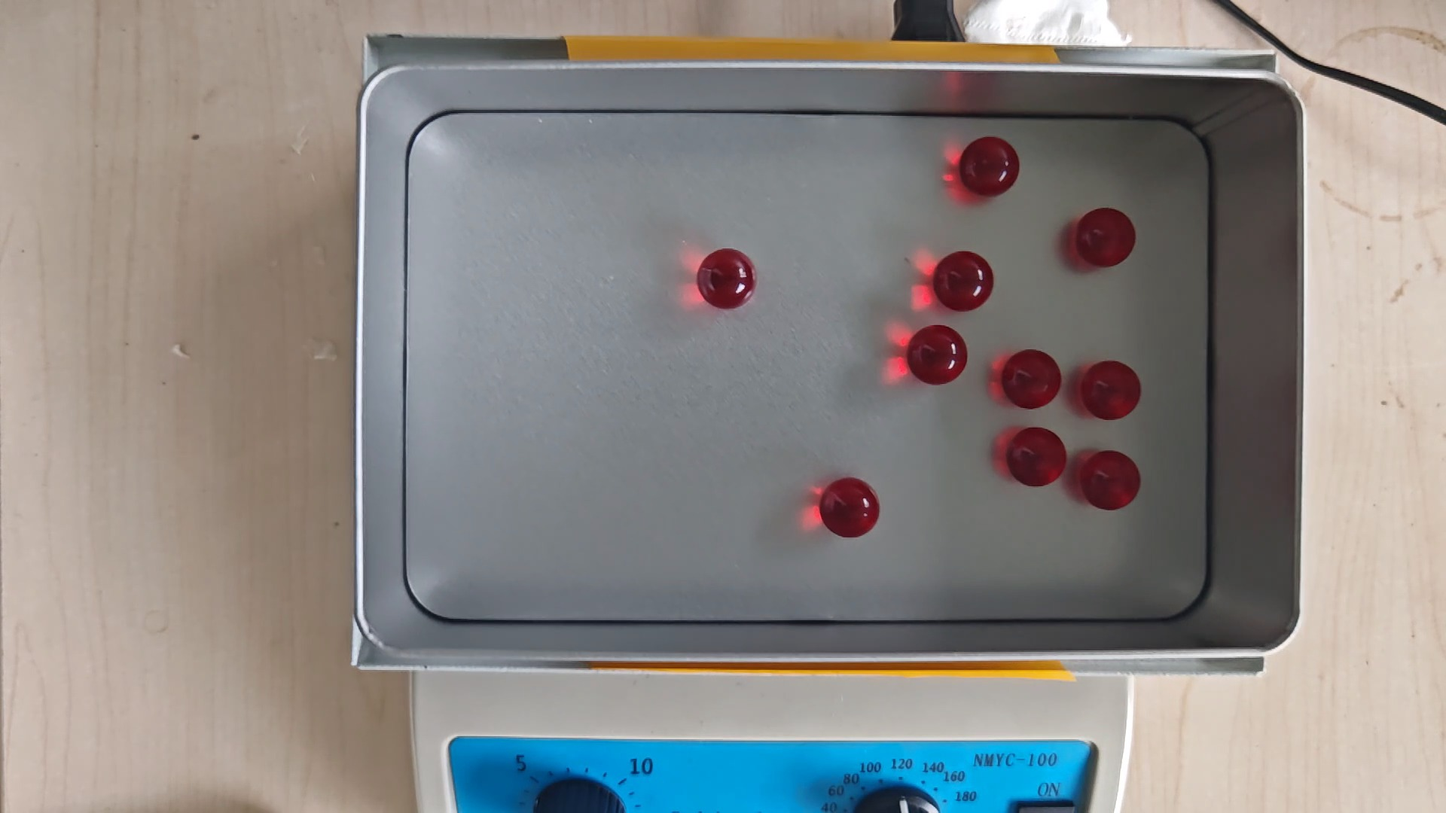ball: (933, 250, 994, 312), (1007, 425, 1067, 488), (1081, 360, 1142, 421), (1080, 450, 1141, 511), (820, 477, 880, 539), (1077, 206, 1136, 268), (908, 325, 968, 385), (698, 248, 757, 309), (961, 135, 1020, 196), (1002, 349, 1061, 410)
container: (404, 113, 1210, 622)
